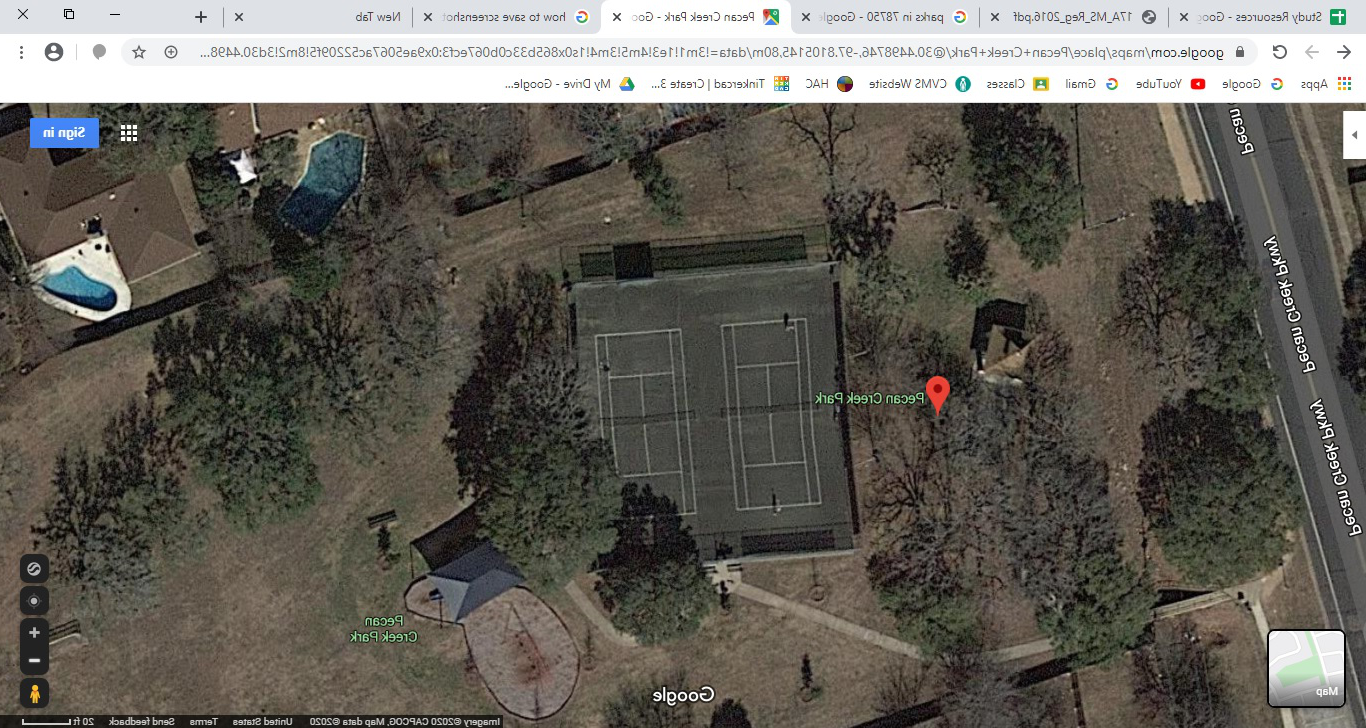tennis: (714, 313, 869, 544), (571, 320, 703, 542)
